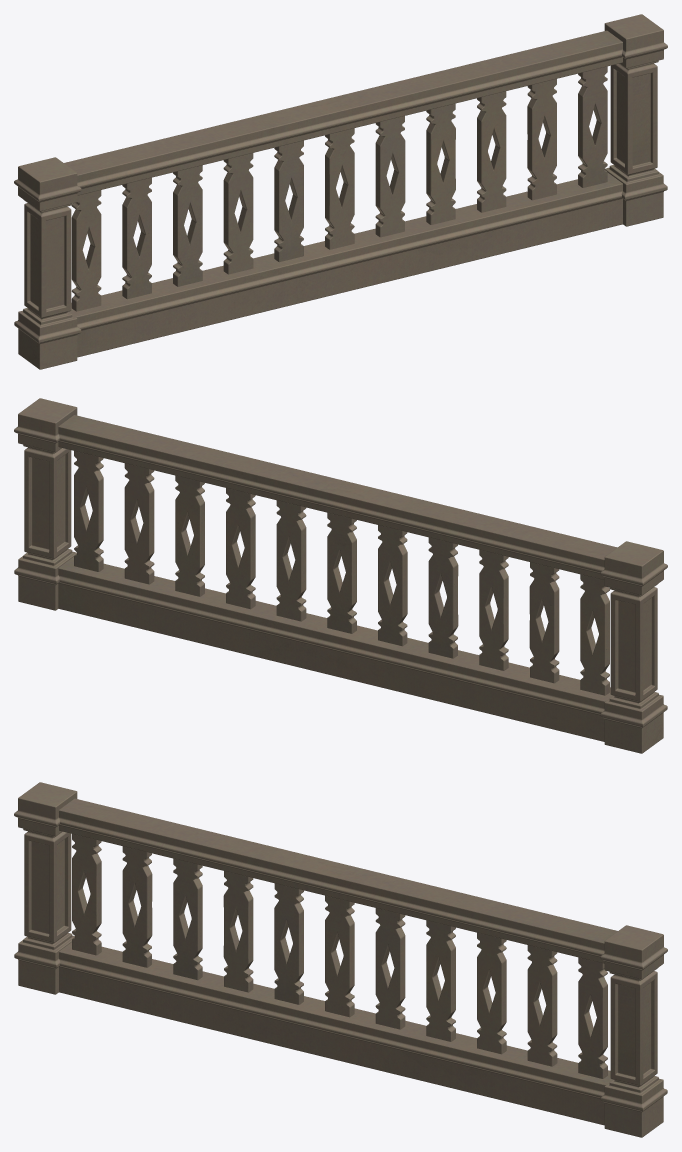
Rendered from SK5 RAILING LONG.fbx.
The picture shows the model from 3 angles, top to bottom: view 1: azimuth 30°, elevation 25°; view 2: azimuth 150°, elevation 25°; view 3: azimuth 330°, elevation 25°; orthographic projection.
Visible parts, largest first — view 1: SK5 RAILING LONG; view 2: SK5 RAILING LONG; view 3: SK5 RAILING LONG.
Boxes of the visible parts, x1,y1,x2,y2 form: SK5 RAILING LONG: [14, 14, 667, 369]; SK5 RAILING LONG: [14, 398, 667, 753]; SK5 RAILING LONG: [14, 782, 667, 1137].
Size of the model in its own units: 399 by 114 by 27.43.
